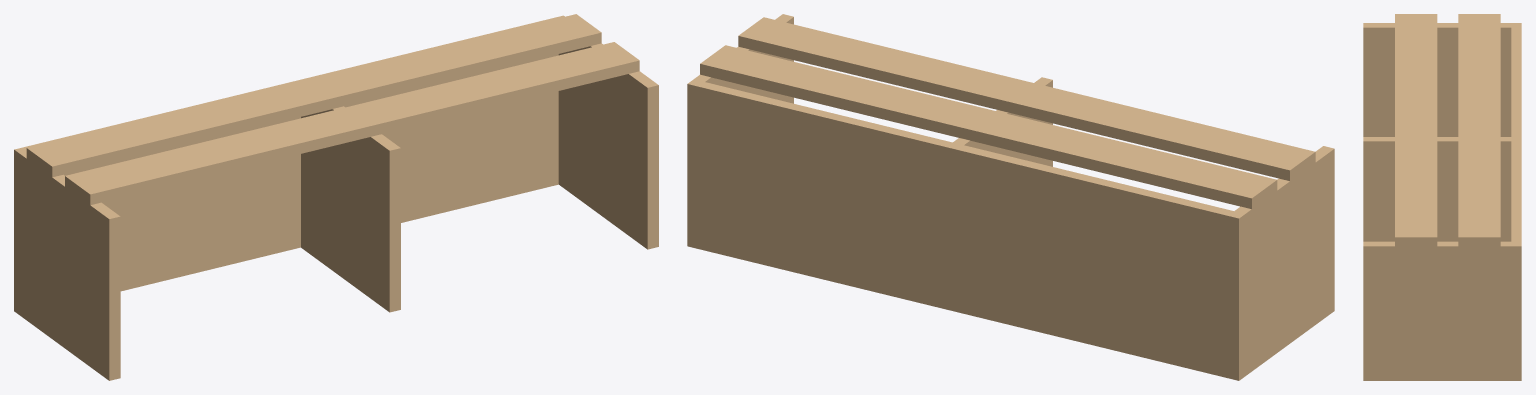
Rendered from tinker.obj.
The picture shows the model from 3 angles, left to right: view 1: azimuth 30°, elevation 25°; view 2: azimuth 150°, elevation 25°; view 3: azimuth 270°, elevation 25°; orthographic projection. The views are drawn at different scales.
Visible parts, largest first — view 1: obj_0; view 2: obj_0; view 3: obj_0.
Boxes of the visible parts, x1,y1,x2,y2 form: obj_0: [14, 14, 658, 380]; obj_0: [687, 14, 1334, 380]; obj_0: [1363, 14, 1521, 380].
Bounding box in the file's own units: 500 × 150 × 150.
